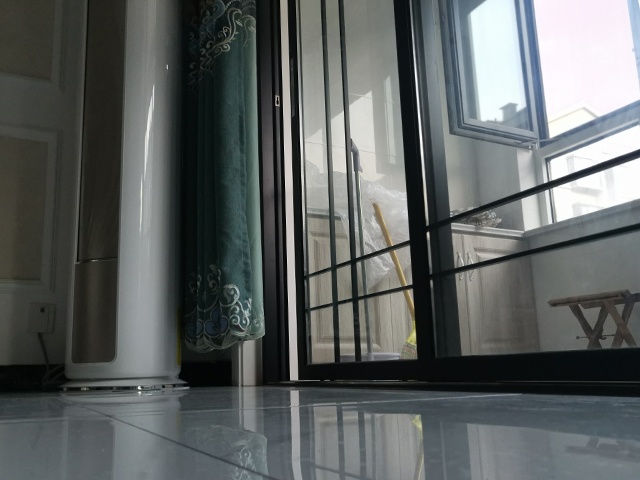cabinet: (302, 205, 544, 364)
curtain: (181, 1, 269, 356)
stool: (546, 288, 640, 352)
wire: (35, 329, 67, 393)
